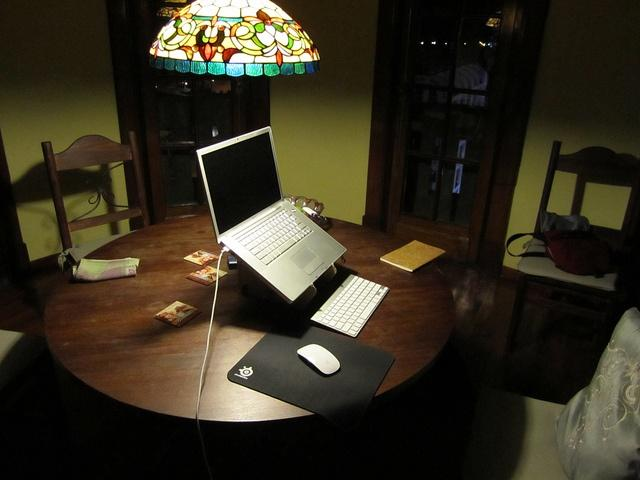Kursi: (505, 138, 639, 304)
